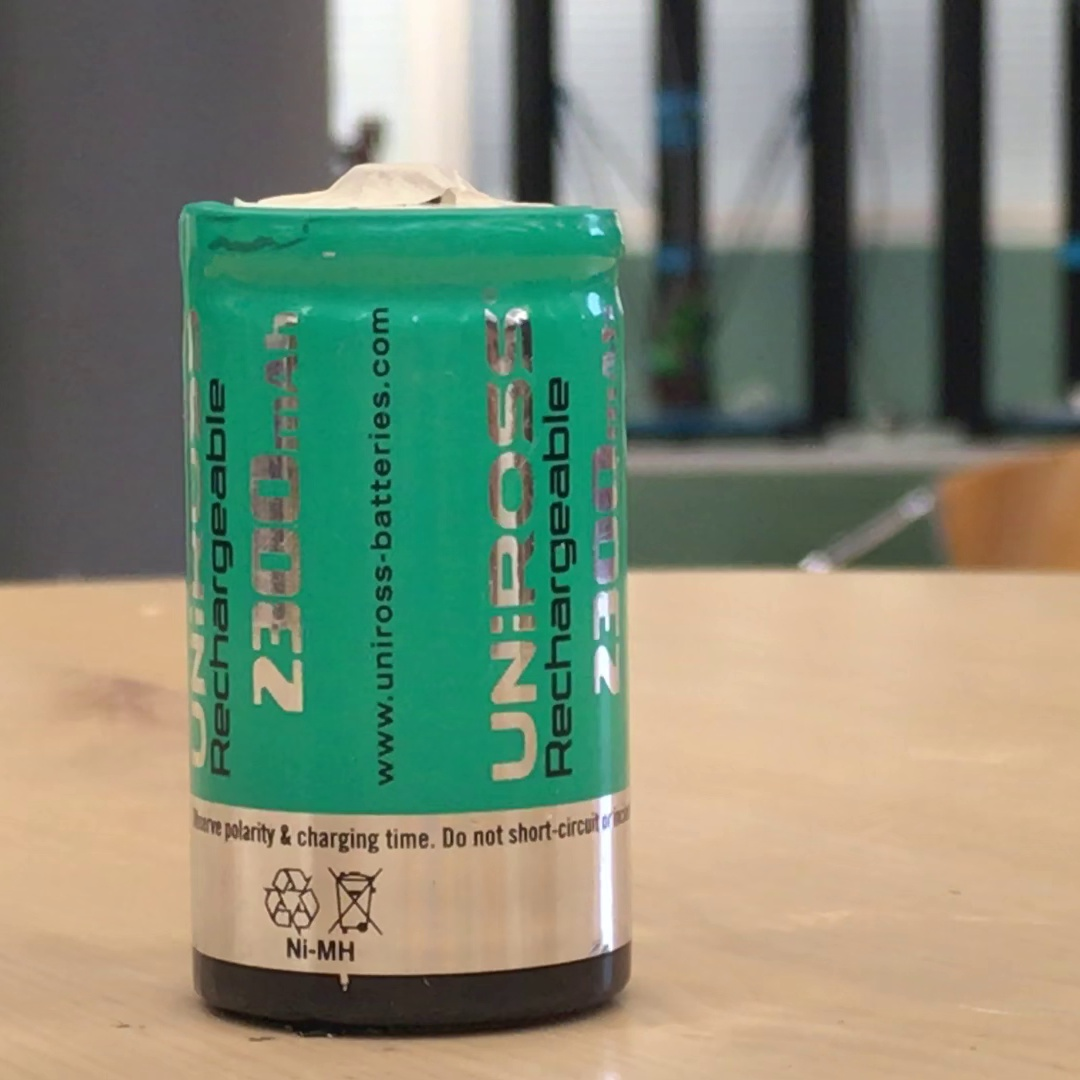keyword: (277, 930, 364, 969)
